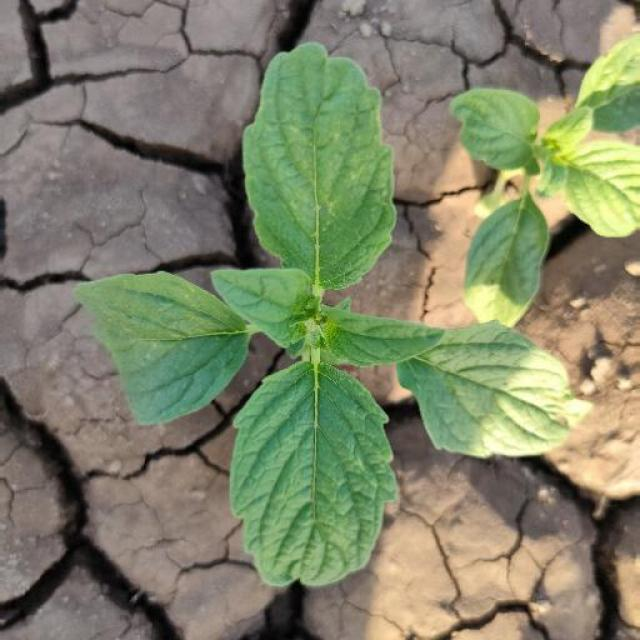crop: (74, 59, 590, 584), (432, 30, 638, 326)
